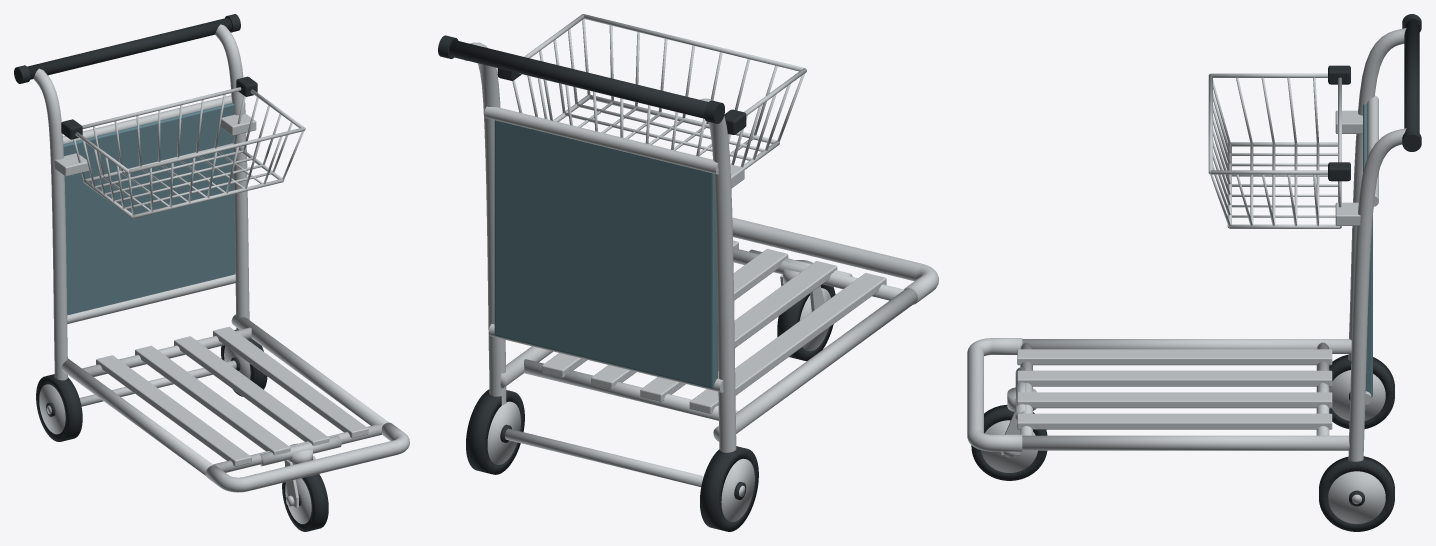
Rendered from full.glb.
The picture shows the model from 3 angles, left to right: view 1: azimuth 30°, elevation 25°; view 2: azimuth 150°, elevation 25°; view 3: azimuth 270°, elevation 25°; orthographic projection. The views are drawn at different scales.
Parts seen in each view (by area): view 1: Blank rectangular advertising panel, Upright post -1, Rounded front U bumper, Upright post 1, Long deck slat 0, Long deck slat 3, Long deck slat 2, Long deck slat 1, Wide push brake bar, Longitudinal deck frame -1, Longitudinal deck frame 1, Lower panel support (+14 smaller); view 2: Blank rectangular advertising panel, Upright post -1, Wide push brake bar, Long deck slat 0, Rounded front U bumper, Longitudinal deck frame -1, Upright post 1, Long deck slat 1, Upper panel support, Rear continuous axle, Rear left tyre, Rear right tyre (+13 smaller); view 3: Upright post 1, Long deck slat 3, Long deck slat 0, Long deck slat 1, Long deck slat 2, Longitudinal deck frame 1, Longitudinal deck frame -1, Rounded front U bumper, Upright post -1, Rear right tyre, Rear right solid hub, Wide push brake bar (+11 smaller).
Part boxes in pixels (left/top/right/bottom): Blank rectangular advertising panel: left=63, top=103, right=235, bottom=315; Upright post -1: left=33, top=68, right=67, bottom=380; Rounded front U bumper: left=205, top=422, right=409, bottom=492; Upright post 1: left=215, top=24, right=249, bottom=330; Long deck slat 0: left=96, top=355, right=251, bottom=466; Long deck slat 3: left=213, top=326, right=368, bottom=438; Long deck slat 2: left=174, top=336, right=329, bottom=445; Long deck slat 1: left=135, top=345, right=290, bottom=455; Wide push brake bar: left=27, top=17, right=231, bottom=79; Longitudinal deck frame -1: left=61, top=358, right=213, bottom=475; Longitudinal deck frame 1: left=231, top=314, right=388, bottom=425; Lower panel support: left=67, top=273, right=235, bottom=323; Blank rectangular advertising panel: left=494, top=120, right=717, bottom=388; Upright post -1: left=694, top=98, right=736, bottom=452; Wide push brake bar: left=449, top=40, right=708, bottom=118; Long deck slat 0: left=689, top=273, right=886, bottom=413; Rounded front U bumper: left=732, top=217, right=938, bottom=304; Longitudinal deck frame -1: left=713, top=288, right=917, bottom=441; Upright post 1: left=464, top=42, right=506, bottom=405; Long deck slat 1: left=640, top=261, right=837, bottom=401; Upper panel support: left=484, top=106, right=718, bottom=174; Rear continuous axle: left=505, top=428, right=745, bottom=496; Rear left tyre: left=700, top=446, right=758, bottom=531; Rear right tyre: left=466, top=389, right=524, bottom=474; Upright post 1: left=1348, top=128, right=1406, bottom=461; Long deck slat 3: left=1017, top=413, right=1332, bottom=429; Long deck slat 0: left=1017, top=349, right=1332, bottom=365; Long deck slat 1: left=1017, top=370, right=1332, bottom=386; Long deck slat 2: left=1017, top=392, right=1332, bottom=408; Longitudinal deck frame 1: left=1022, top=435, right=1349, bottom=450; Longitudinal deck frame -1: left=1022, top=339, right=1351, bottom=353; Rounded front U bumper: left=967, top=338, right=1022, bottom=451; Upright post -1: left=1348, top=28, right=1406, bottom=360; Rear right tyre: left=1319, top=456, right=1394, bottom=531; Rear right solid hub: left=1328, top=471, right=1385, bottom=523; Wide push brake bar: left=1404, top=20, right=1419, bottom=132.
Size of the model in its own units: 0.673 by 1.05 by 1.07.
